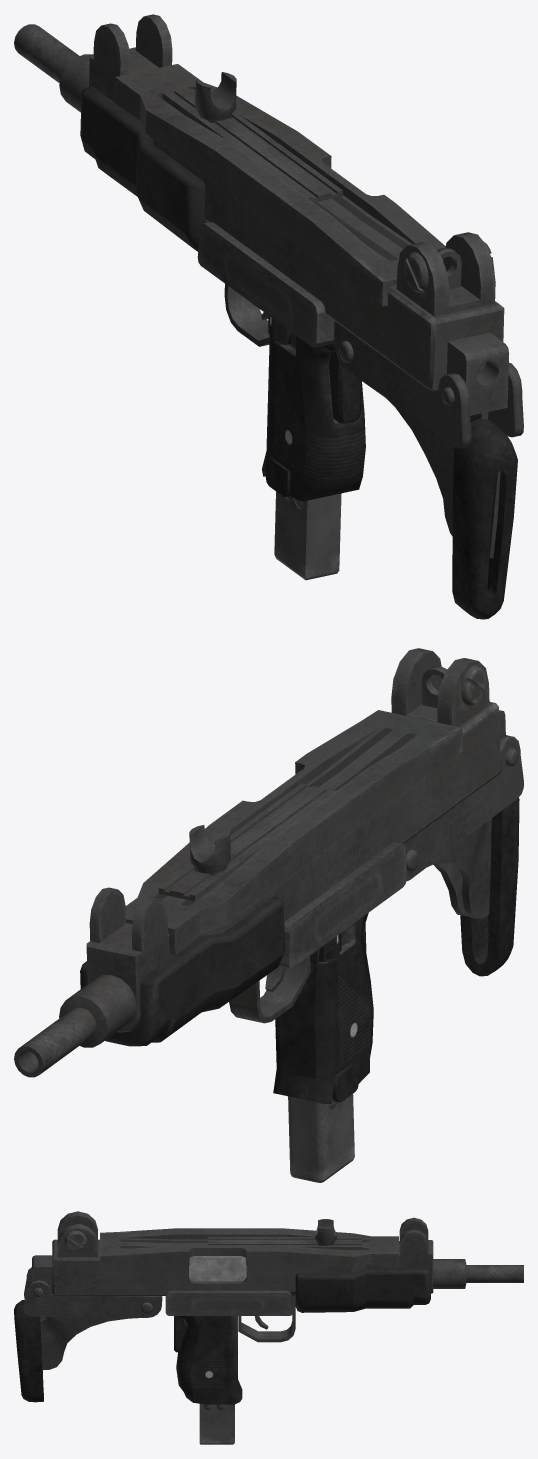
Rendered from machine_pistol.glb.
The picture shows the model from 3 angles, top to bottom: view 1: azimuth 30°, elevation 25°; view 2: azimuth 150°, elevation 25°; view 3: azimuth 270°, elevation 25°; orthographic projection. The views are drawn at different scales.
Parts seen in each view (by area): view 1: item; view 2: item; view 3: item.
Boxes of the visible parts, bbox=[...] form: item: bbox=[14, 14, 523, 619]; item: bbox=[14, 648, 523, 1182]; item: bbox=[14, 1211, 523, 1444].
Size of the model in its own units: 0.0564 by 0.2288 by 0.47.
1 material, 1 textured.
